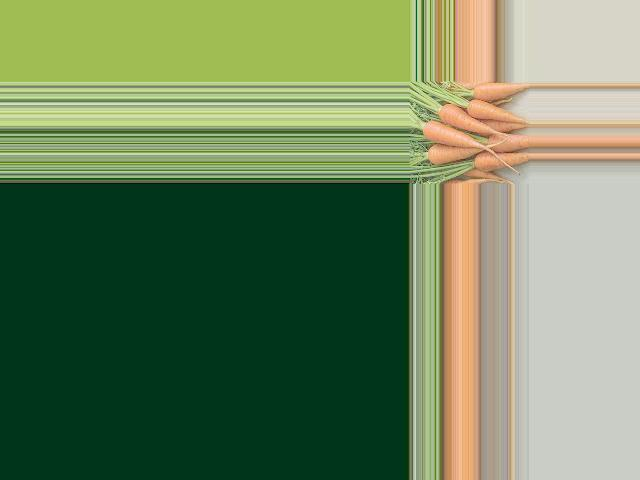carrot: (471, 84, 530, 94)
